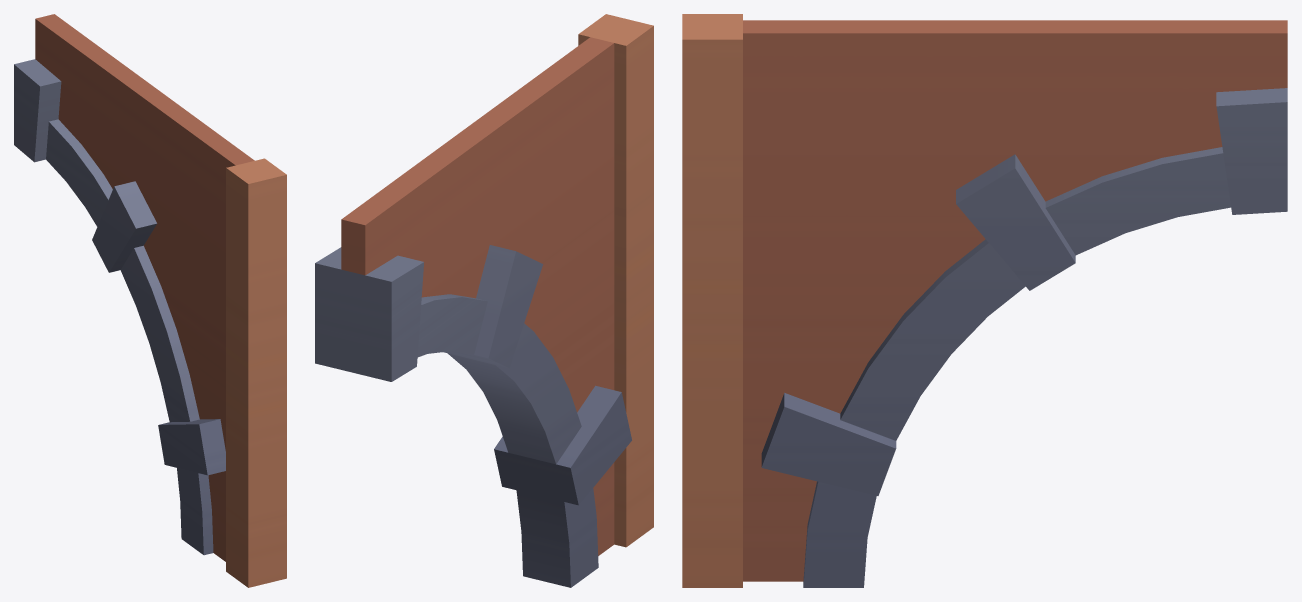
The model's file is wall-wood-arch-top-detail.fbx.
The picture shows the model from 3 angles, left to right: view 1: azimuth 30°, elevation 25°; view 2: azimuth 150°, elevation 25°; view 3: azimuth 270°, elevation 25°; orthographic projection. The views are drawn at different scales.
Parts seen in each view (by area): view 1: wall-wood-arch-top-detail; view 2: wall-wood-arch-top-detail; view 3: wall-wood-arch-top-detail.
Boxes of the visible parts, <box> form: wall-wood-arch-top-detail: <box>14,14,286,587</box>; wall-wood-arch-top-detail: <box>315,14,653,587</box>; wall-wood-arch-top-detail: <box>682,14,1287,587</box>.
Size of the model in its own units: 16 by 100 by 100.
Materials: 1 (1 with a texture image).
